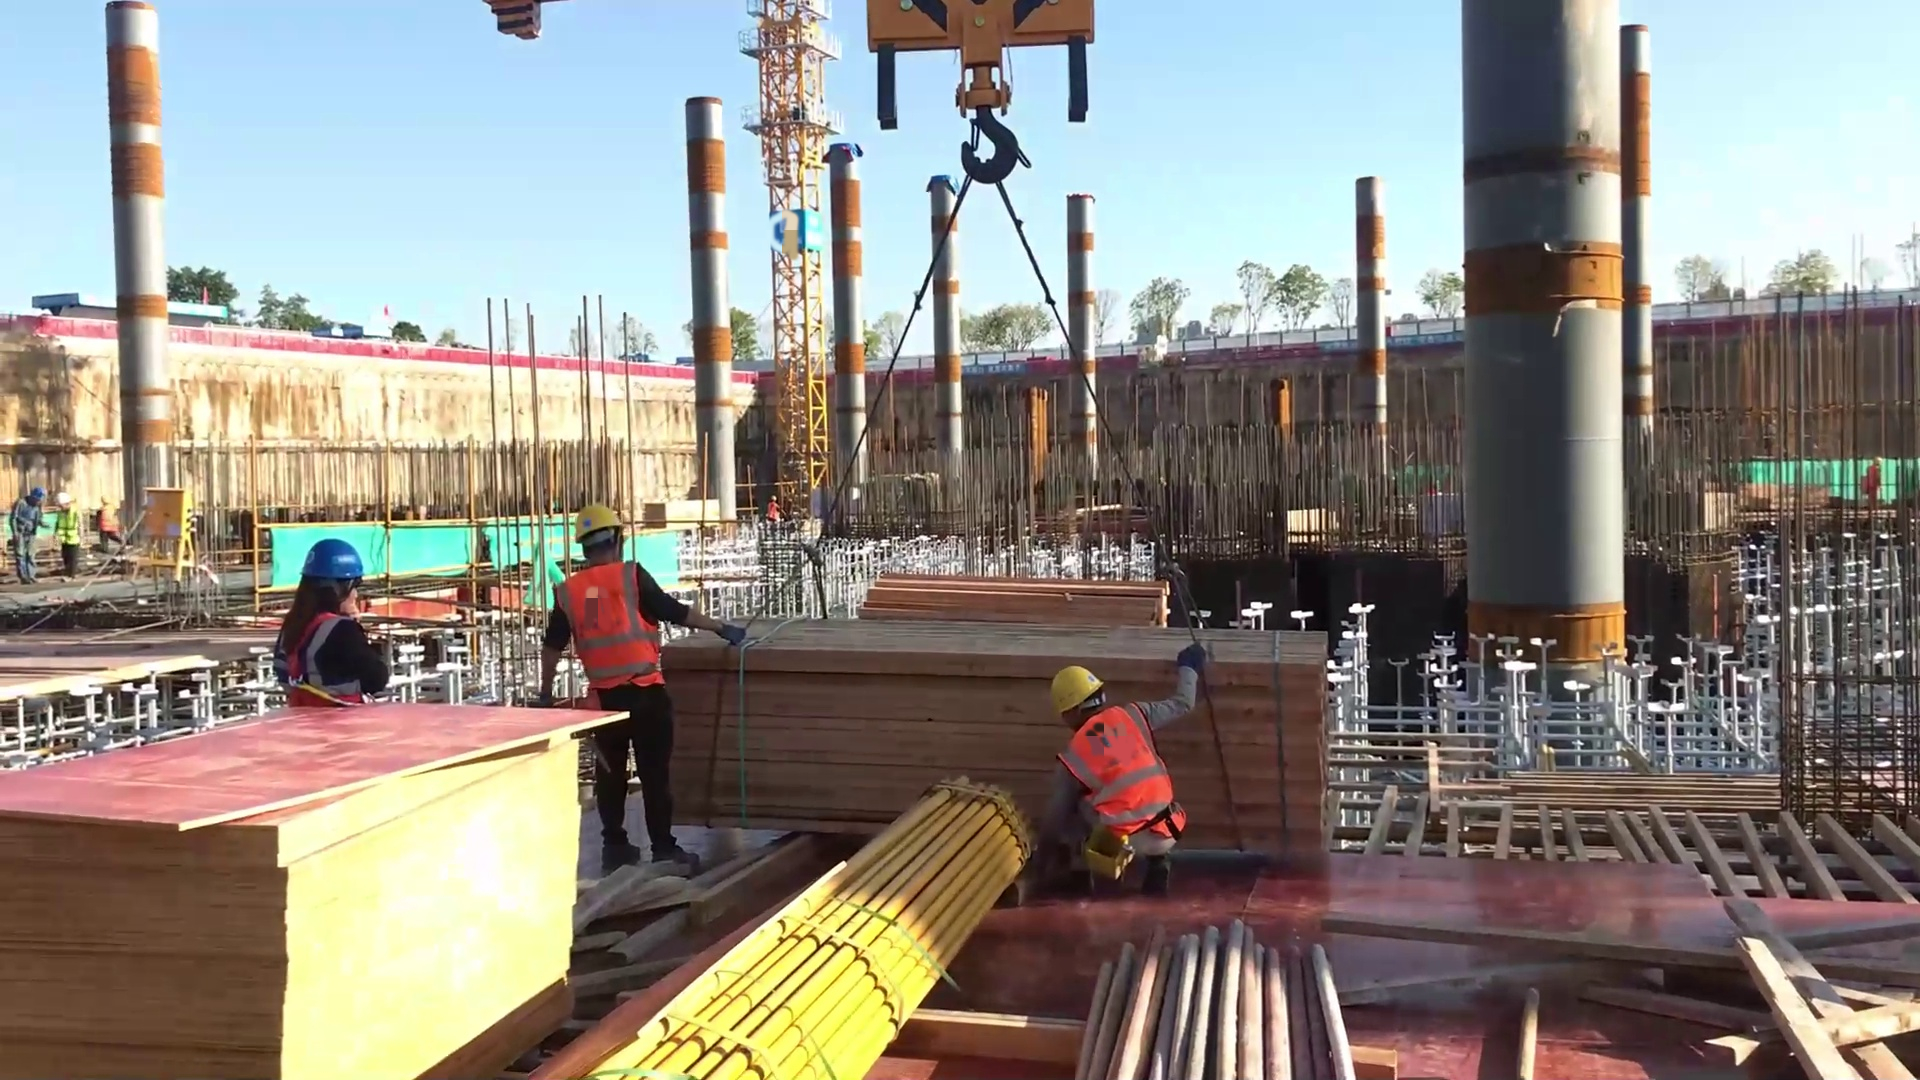board: (1, 696, 693, 1070)
ebox: (136, 480, 204, 576)
helmet: (286, 530, 378, 579), (565, 495, 636, 546), (1036, 660, 1098, 711)
hook: (500, 476, 736, 885), (1017, 619, 1221, 885), (861, 1, 1129, 200)
person: (261, 526, 378, 723), (44, 483, 81, 573), (12, 489, 42, 574)
vest: (1050, 688, 1190, 849), (538, 543, 679, 692), (265, 597, 397, 722), (11, 495, 48, 542), (56, 512, 92, 547), (93, 508, 131, 535)
wood: (642, 615, 1371, 860)
